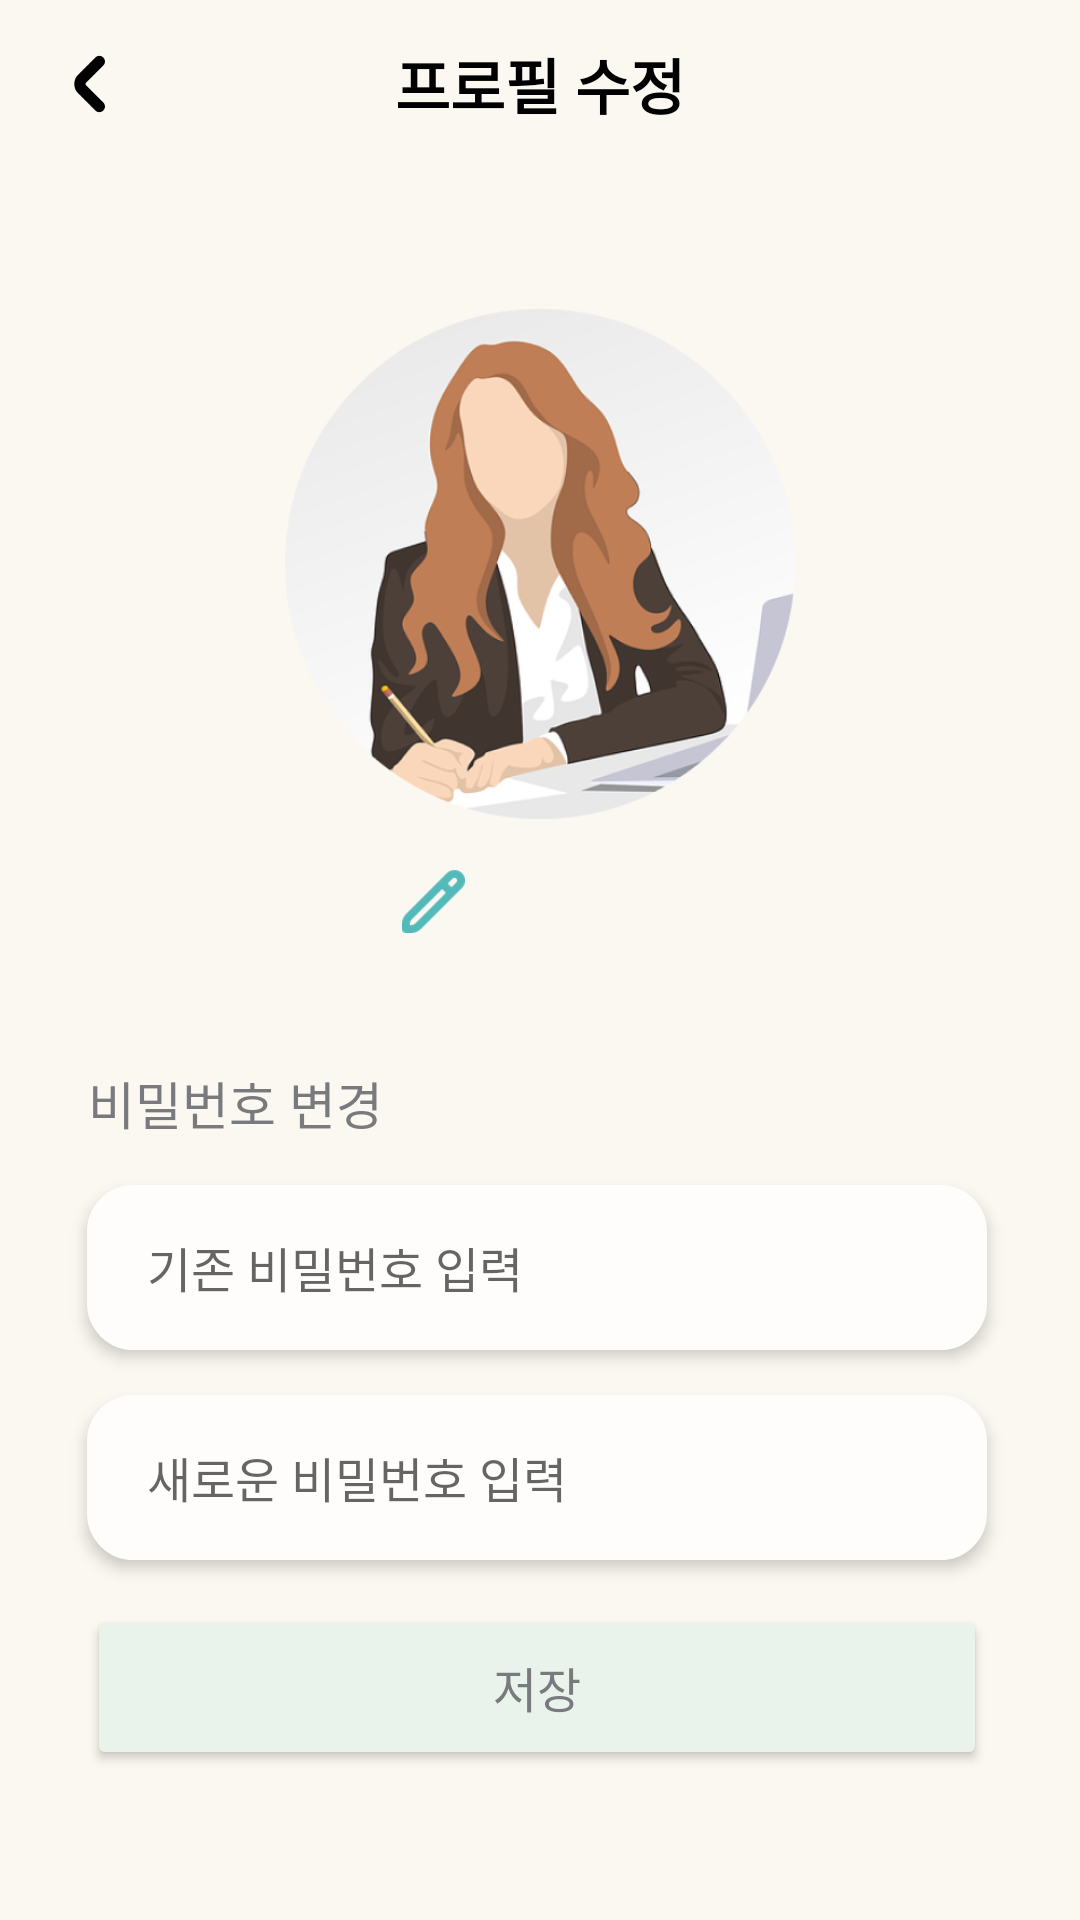

Icon click points for this 1080w x 1920h phone screenshot, format (x,y):
back: (89,84)
pencil: (433,901)
